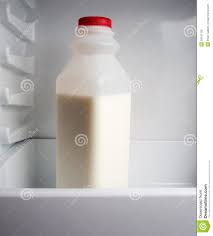milk: (60, 7, 136, 191)
